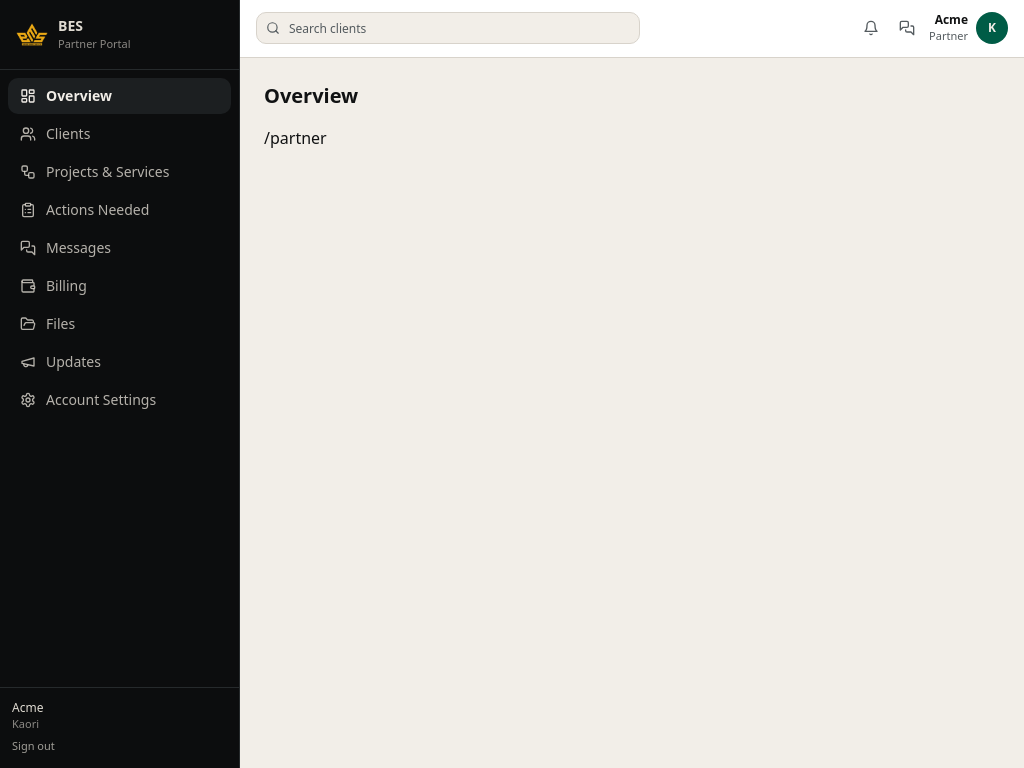
Scenario: the portal header search › takes the partner to their clients, filtered by what they typed
Type "Jordan Reyes" into the search field labelled "Search clients" at point(448, 28), box [256, 12, 640, 44]
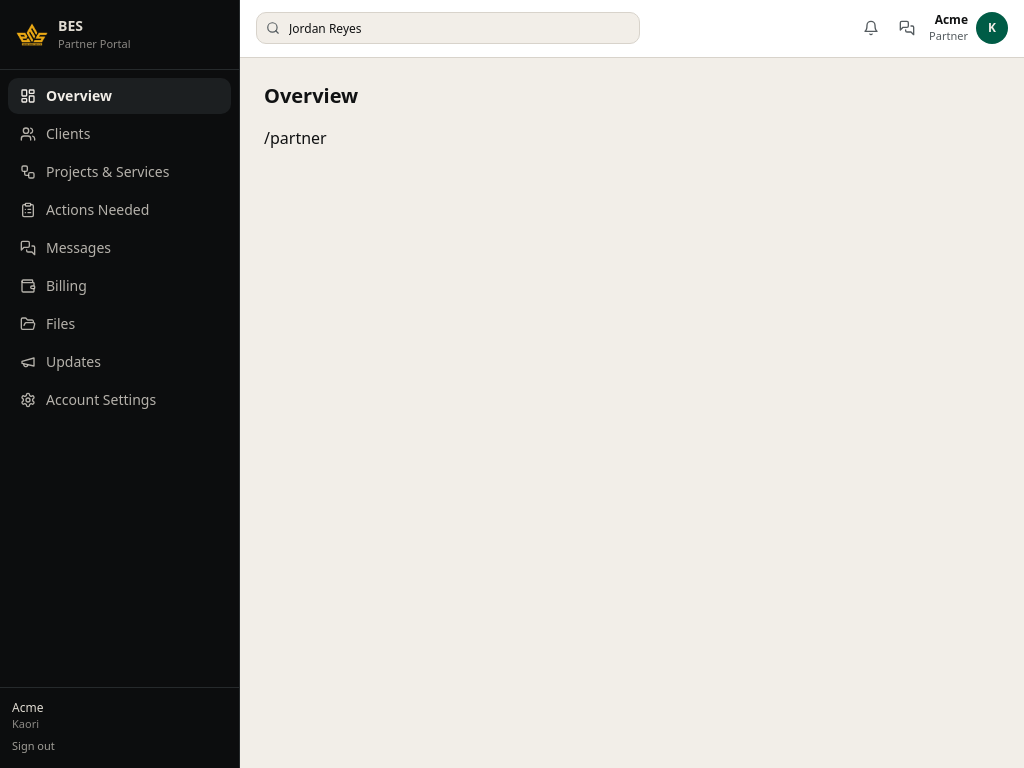
Submit the form named "Search clients", box [256, 12, 640, 44]
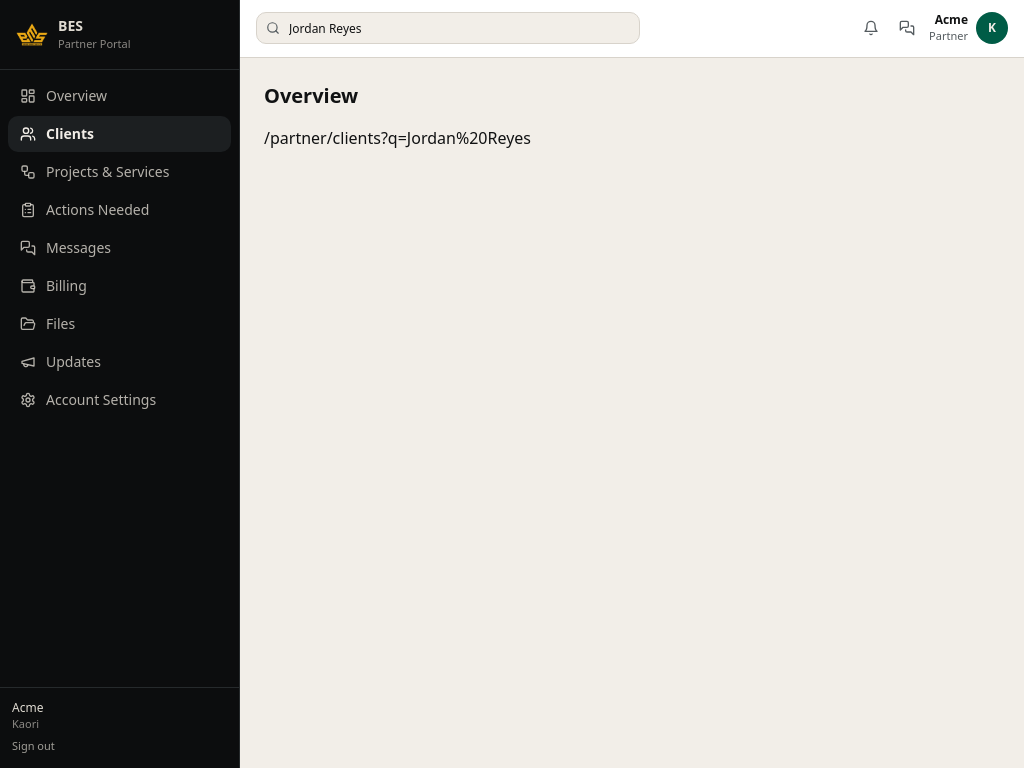
Expected: the text with test id "where" reads "/partner/clients?q=Jordan%20Reyes", [264, 126, 531, 148]
